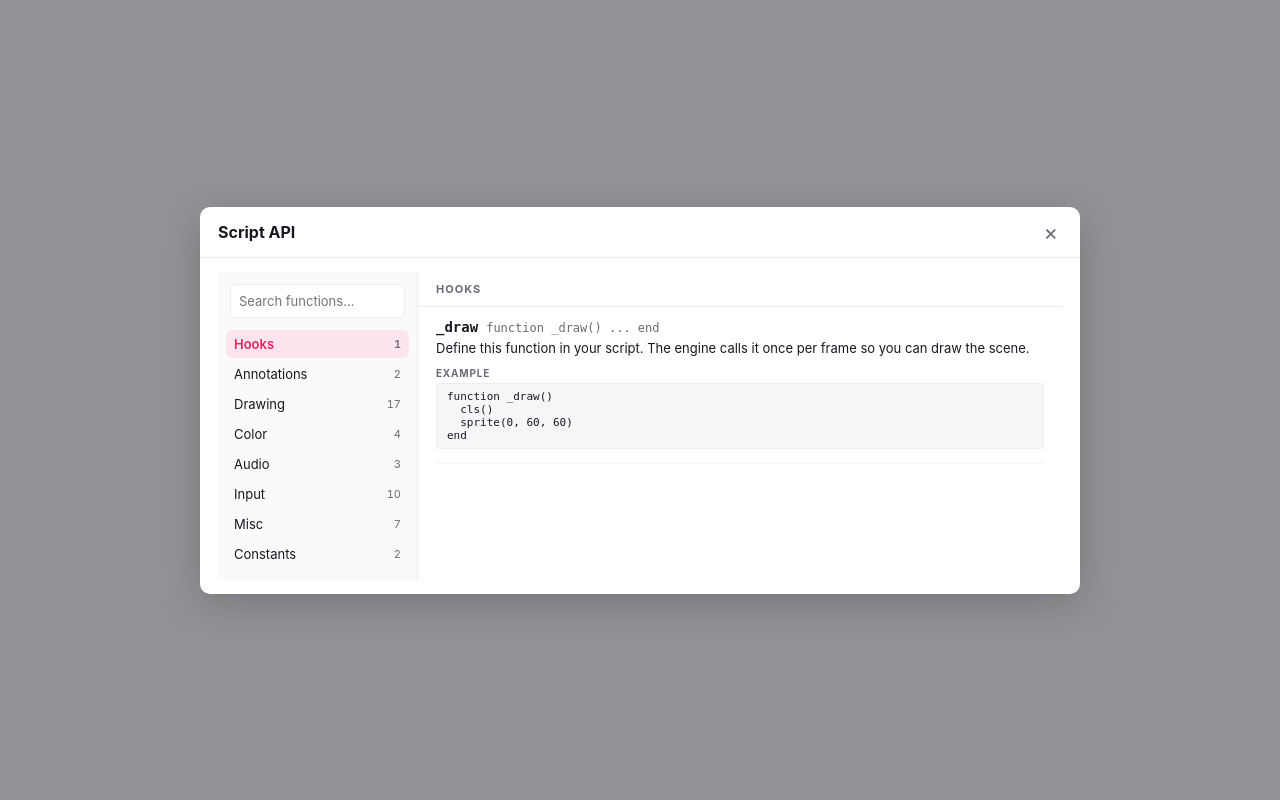
Test case: ScriptApiModal — sidebar › switching to Drawing reveals drawing entries and hides Hooks entries
The image size is (1280, 800).
Step 1. Click the tab "Drawing 17" → (318, 404), box [226,390,409,418]
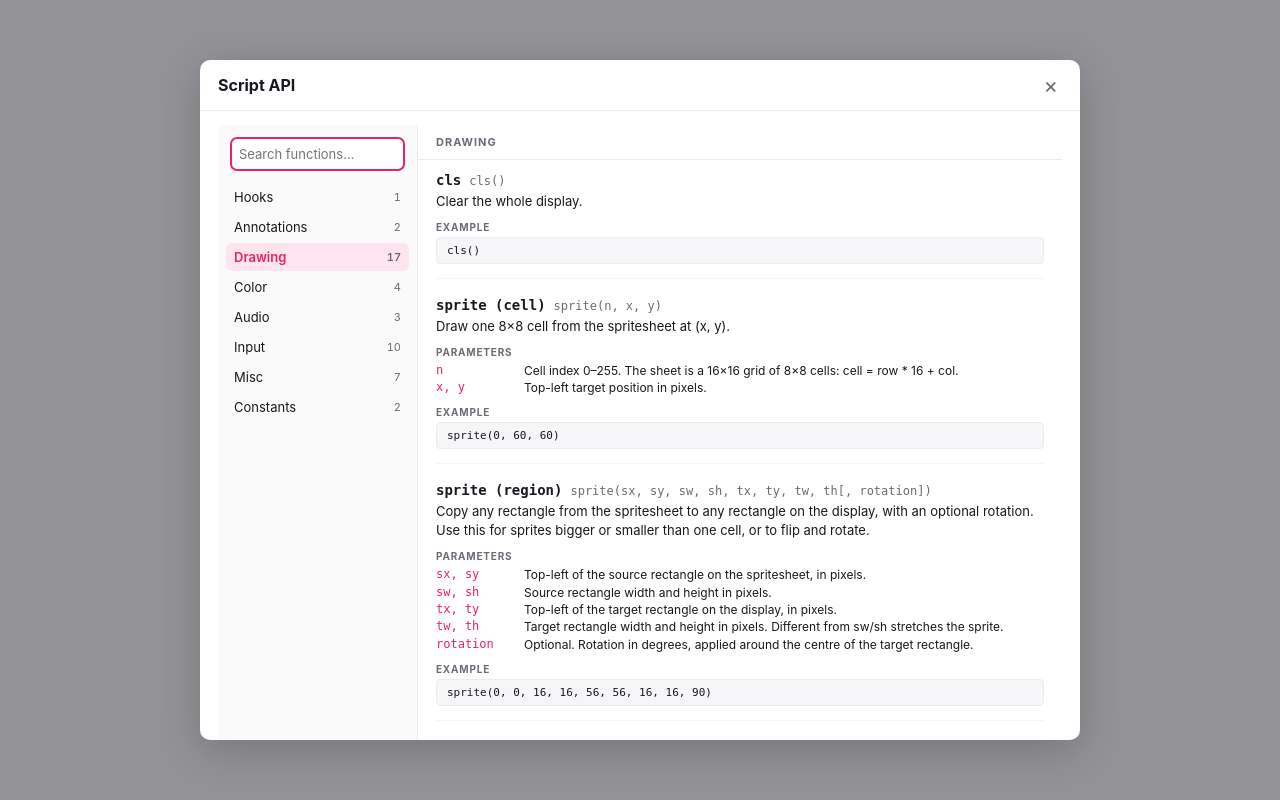
Expected: the text "cls" is shown, [436,172,461,188]
Expected: the text "sprite (cell)" is shown, [436,297,546,313]
Expected: the text "_draw" is gone
